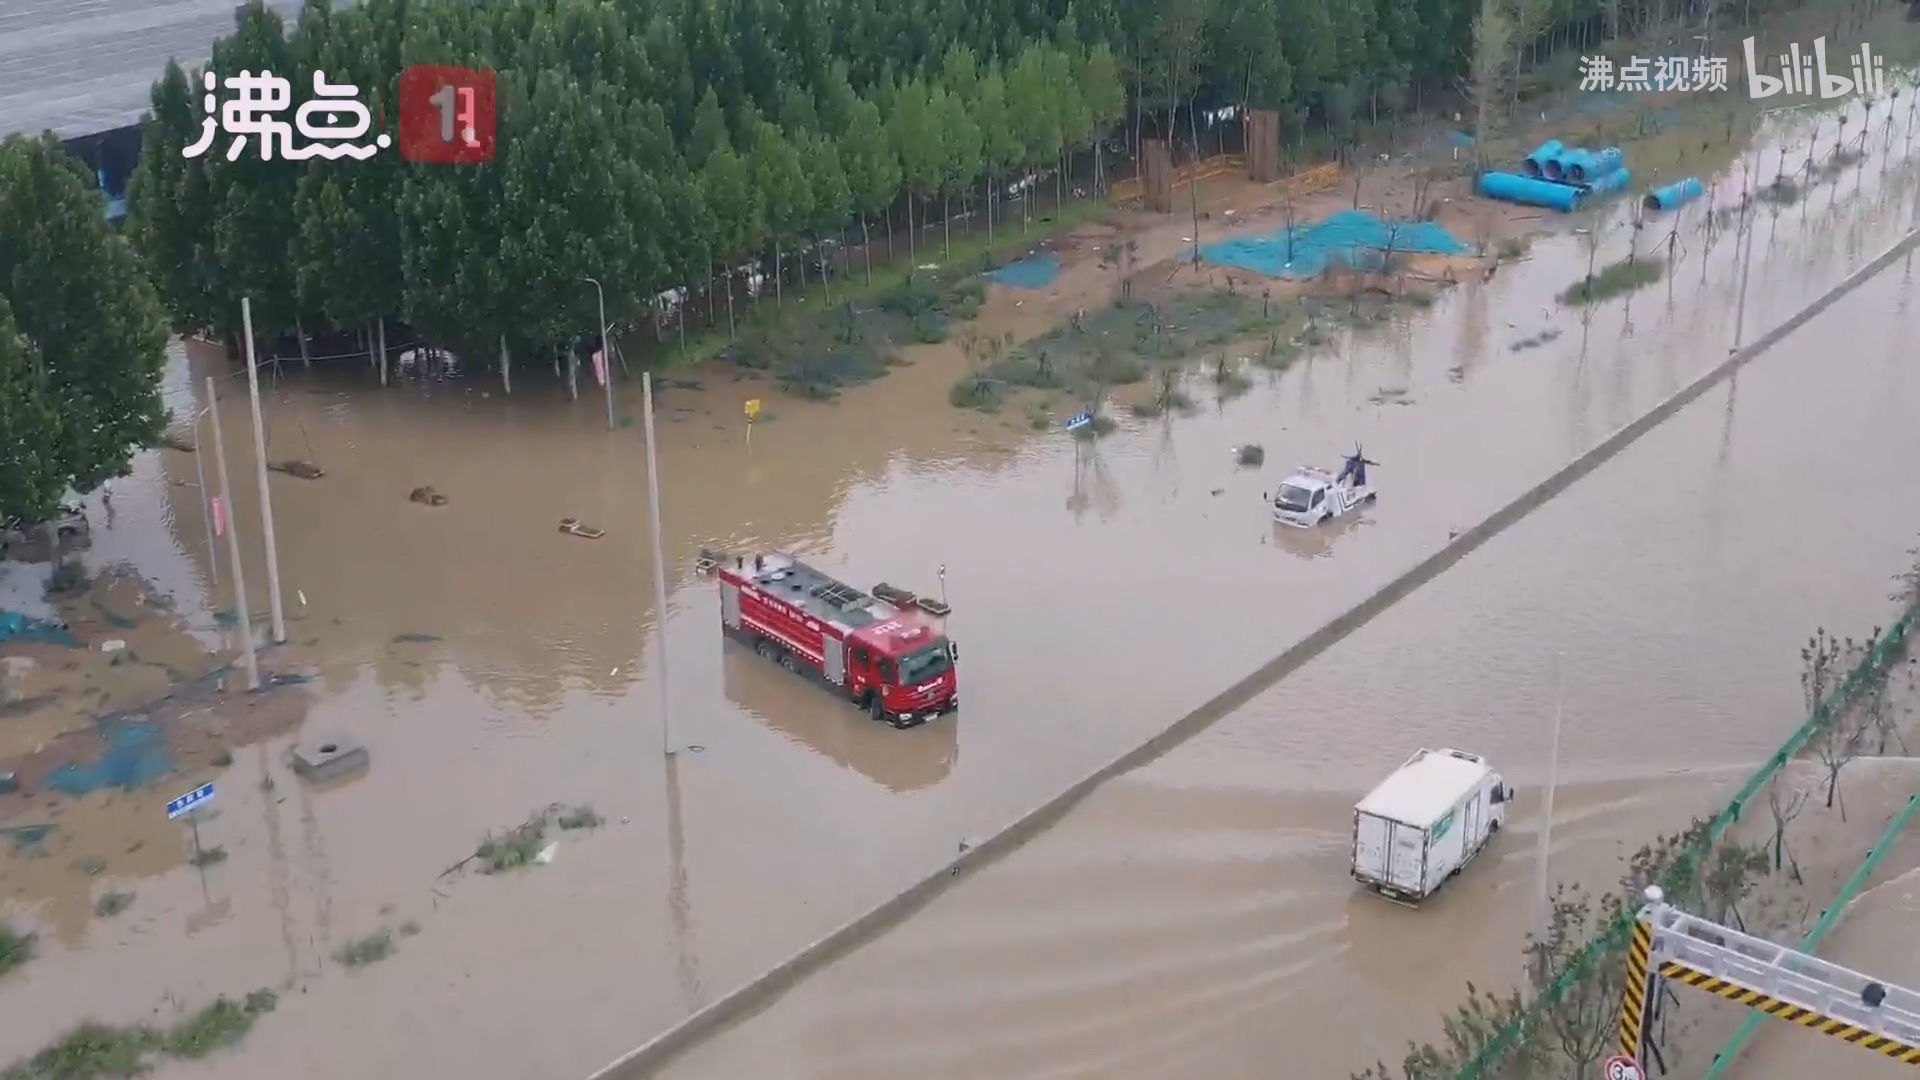puddle: (152, 334, 1720, 1080)
